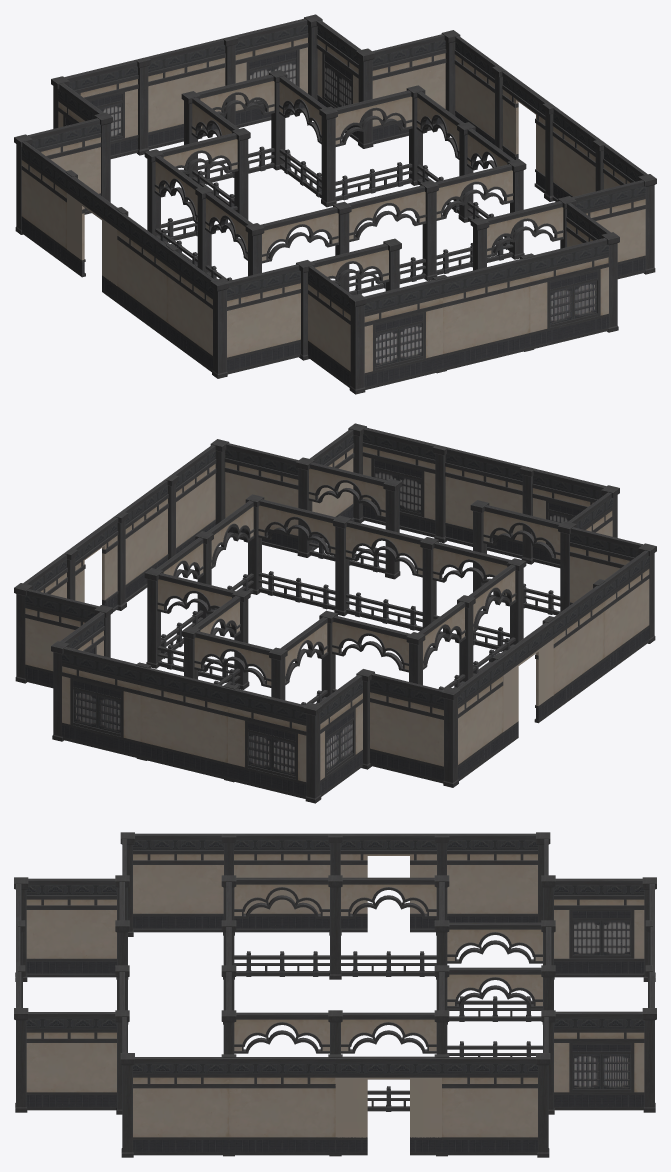
Rendered from Homeworld_Interior_Dq_Room_D_Wall_01_Vo.fbx.
The picture shows the model from 3 angles, top to bottom: view 1: azimuth 30°, elevation 25°; view 2: azimuth 150°, elevation 25°; view 3: azimuth 270°, elevation 25°; orthographic projection. The views are drawn at different scales.
Visible parts, largest first — view 1: Homeworld_Interior_Dq_Room_Wall_01_Vo (×14), Homeworld_Interior_Dq_Room_Wall_05_Vo (×14), Homeworld_Interior_Dq_Room_Wall_02_Vo (×6), Homeworld_Interior_Dq_Room_Pillar_01_Vo (×24), Homeworld_Interior_Dq_Room_Wall_06_Vo (×2), Homeworld_Interior_Dq_Room_Pillar_02_Vo (×4), Homeworld_Interior_Dq_Room_D_Filling_01_Vo; view 2: Homeworld_Interior_Dq_Room_Wall_01_Vo (×14), Homeworld_Interior_Dq_Room_Wall_05_Vo (×14), Homeworld_Interior_Dq_Room_Wall_02_Vo (×6), Homeworld_Interior_Dq_Room_Pillar_01_Vo (×24), Homeworld_Interior_Dq_Room_Wall_06_Vo (×2), Homeworld_Interior_Dq_Room_Pillar_02_Vo (×4), Homeworld_Interior_Dq_Room_D_Filling_01_Vo; view 3: Homeworld_Interior_Dq_Room_Wall_01_Vo (×8), Homeworld_Interior_Dq_Room_Wall_05_Vo (×6), Homeworld_Interior_Dq_Room_Wall_02_Vo (×2), Homeworld_Interior_Dq_Room_Pillar_01_Vo (×18), Homeworld_Interior_Dq_Room_Wall_06_Vo (×2), Homeworld_Interior_Dq_Room_Pillar_02_Vo (×3), Homeworld_Interior_Dq_Room_D_Filling_01_Vo.
Part boxes in pixels (x1,y1,x2,y2): Homeworld_Interior_Dq_Room_Wall_01_Vo (×14): (21, 34, 647, 387); Homeworld_Interior_Dq_Room_Wall_05_Vo (×14): (154, 74, 563, 295); Homeworld_Interior_Dq_Room_Wall_02_Vo (×6): (58, 18, 608, 389); Homeworld_Interior_Dq_Room_Pillar_01_Vo (×24): (14, 14, 656, 394); Homeworld_Interior_Dq_Room_Wall_06_Vo (×2): (67, 68, 553, 302); Homeworld_Interior_Dq_Room_Pillar_02_Vo (×4): (136, 36, 554, 201); Homeworld_Interior_Dq_Room_D_Filling_01_Vo: (376, 283, 595, 364); Homeworld_Interior_Dq_Room_Wall_01_Vo (×14): (23, 429, 649, 783); Homeworld_Interior_Dq_Room_Wall_05_Vo (×14): (156, 462, 561, 705); Homeworld_Interior_Dq_Room_Wall_02_Vo (×6): (60, 427, 606, 798); Homeworld_Interior_Dq_Room_Pillar_01_Vo (×24): (14, 423, 656, 803); Homeworld_Interior_Dq_Room_Wall_06_Vo (×2): (67, 514, 553, 748); Homeworld_Interior_Dq_Room_Pillar_02_Vo (×4): (116, 445, 534, 610); Homeworld_Interior_Dq_Room_D_Filling_01_Vo: (75, 692, 352, 773); Homeworld_Interior_Dq_Room_Wall_01_Vo (×8): (26, 833, 537, 1155); Homeworld_Interior_Dq_Room_Wall_05_Vo (×6): (234, 877, 542, 1111); Homeworld_Interior_Dq_Room_Wall_02_Vo (×2): (554, 878, 644, 1110); Homeworld_Interior_Dq_Room_Pillar_01_Vo (×18): (14, 832, 656, 1157); Homeworld_Interior_Dq_Room_Wall_06_Vo (×2): (335, 833, 441, 1155); Homeworld_Interior_Dq_Room_Pillar_02_Vo (×3): (221, 834, 449, 935); Homeworld_Interior_Dq_Room_D_Filling_01_Vo: (574, 1056, 629, 1086).
Size of what is drawn, in the model's own units: 25.18 by 5.12 by 30.18.
